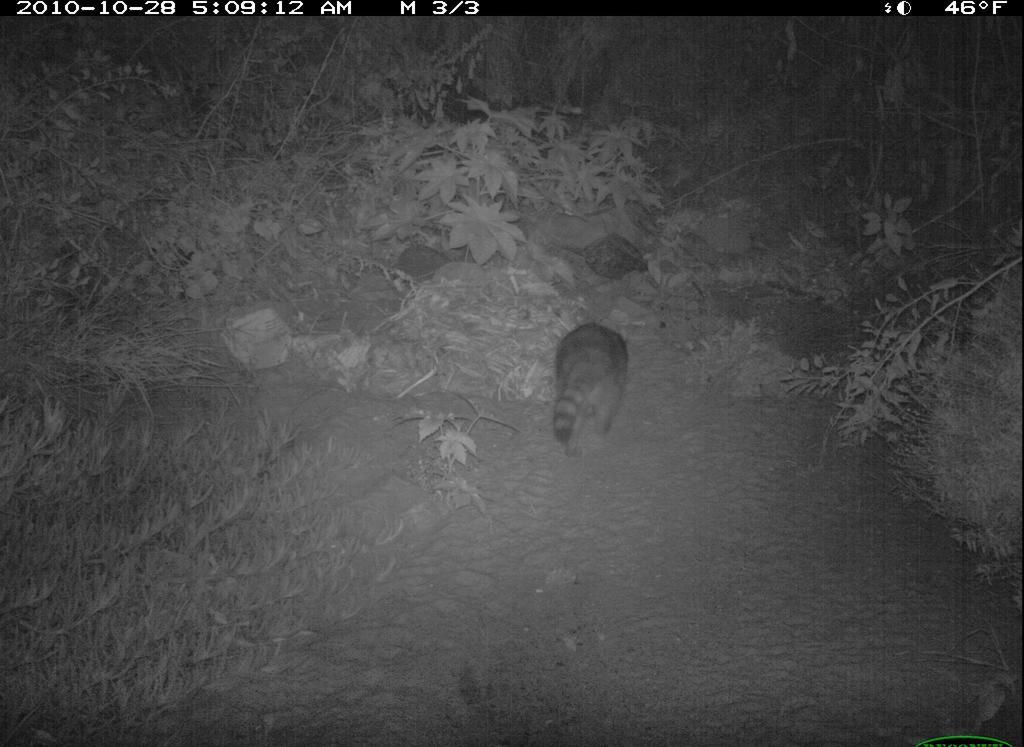raccoon: (547, 317, 638, 463)
